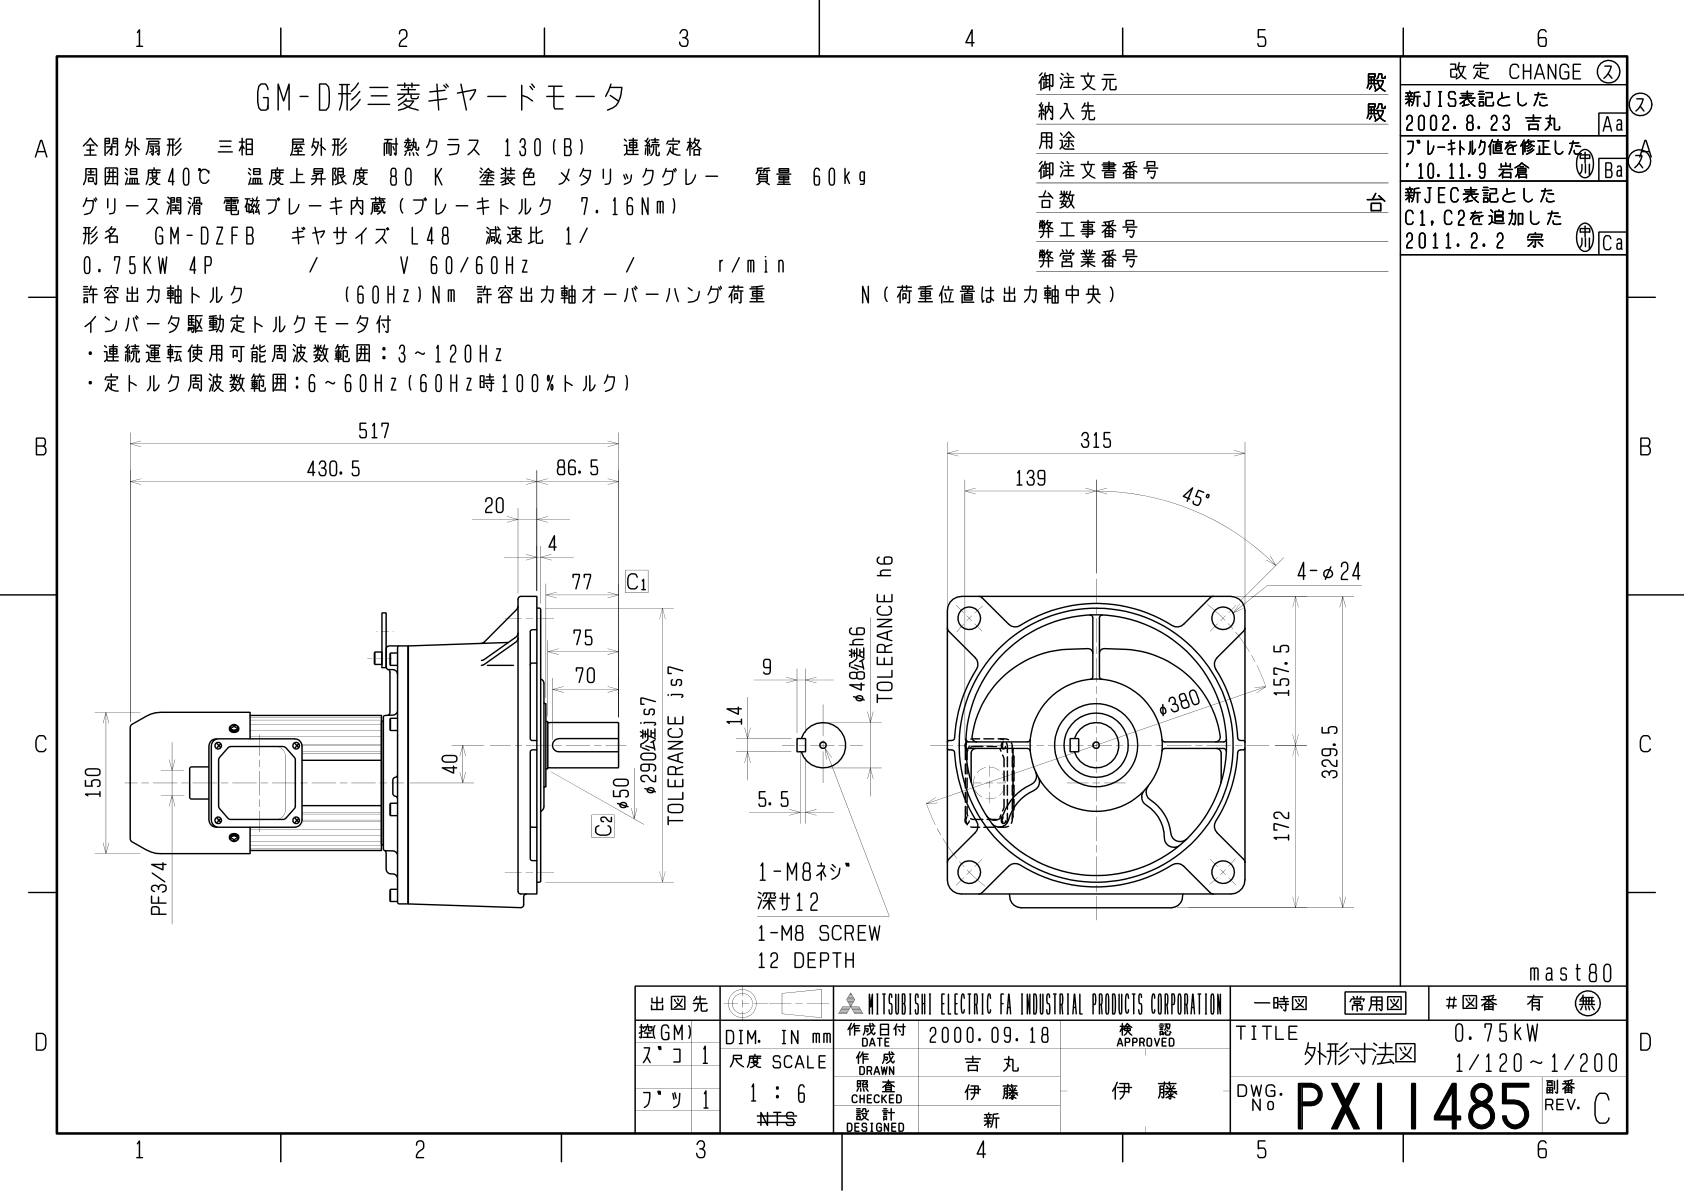GM_D_インバータ屋外_三相_フランジ: (3, 6, 1684, 1191)
